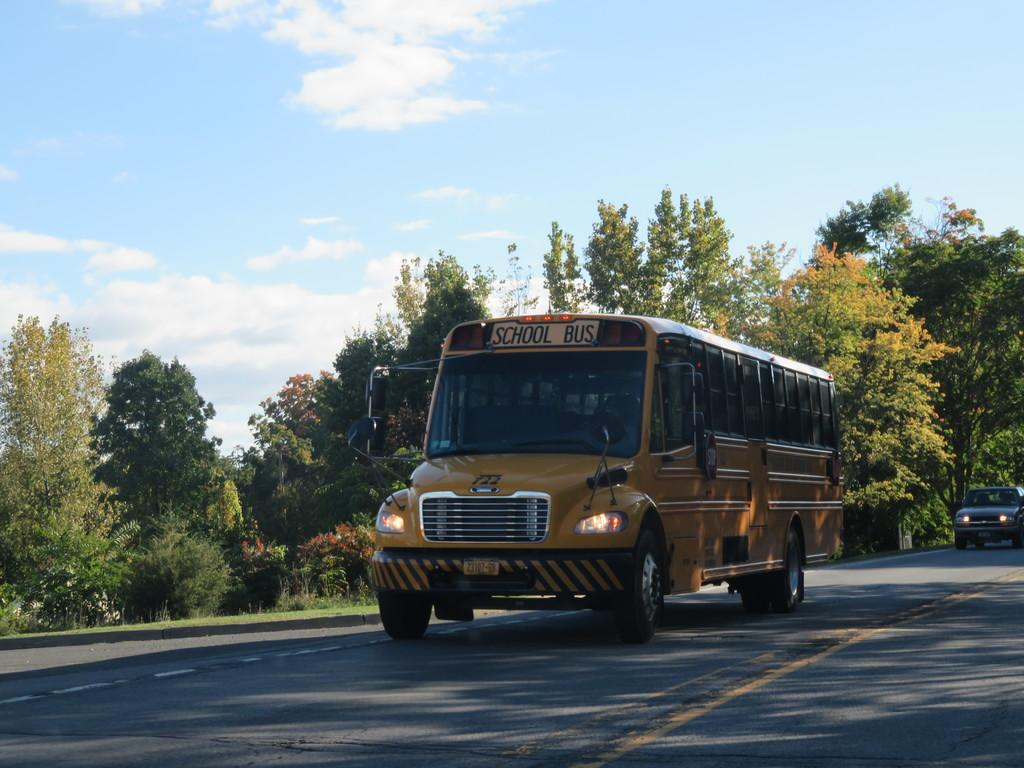vehicle: (350, 313, 842, 640), (951, 486, 1024, 551)
